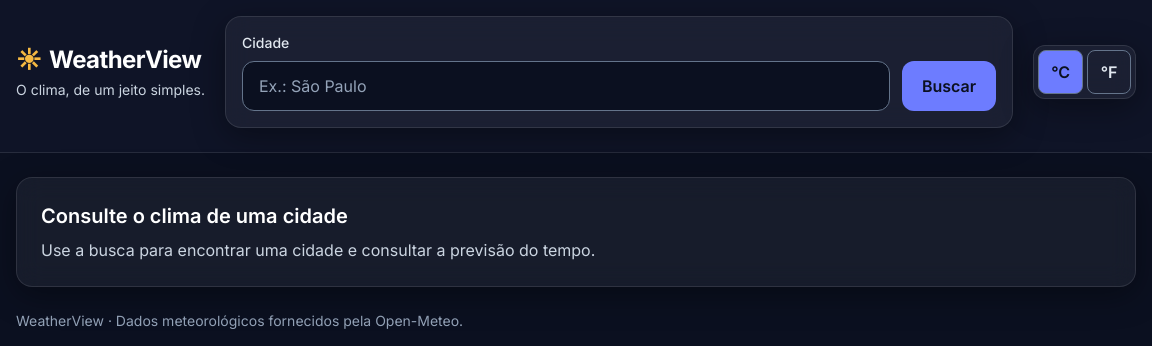
Scenario: App › apresenta o estado empty quando a busca não encontra cidades
Type "Atlantis" into the search field labelled "Cidade" at (566, 86), box [242,61,890,111]
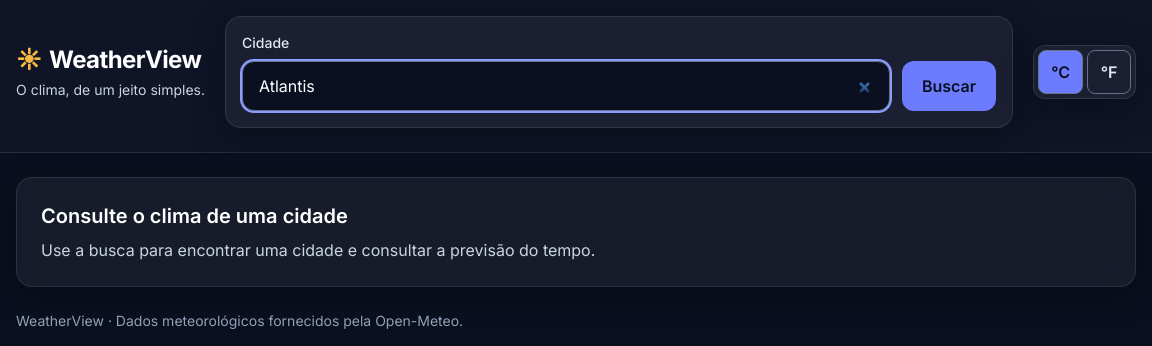
Press Enter
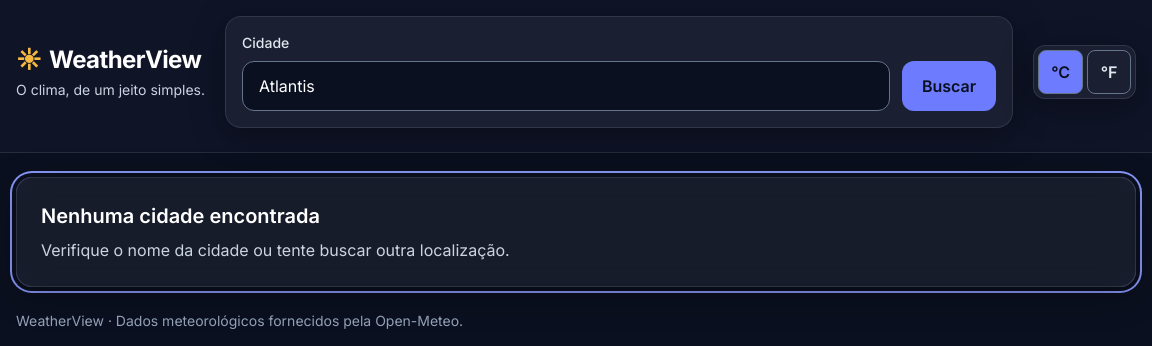
Result: the message "Nenhuma cidade encontrada" is shown at [16,177,1136,287]
